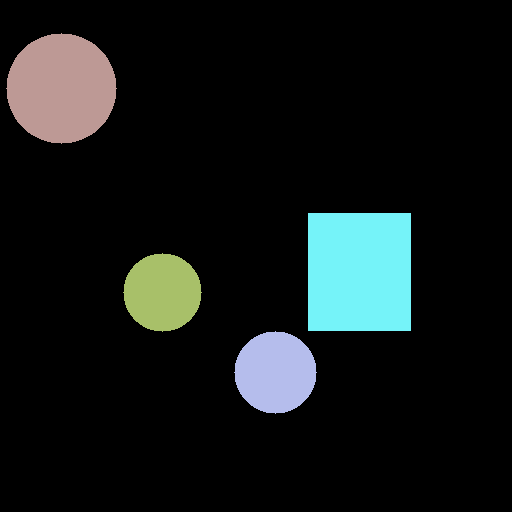circle: (6, 33, 116, 143), (234, 331, 316, 413), (123, 253, 201, 331)
rectangle: (308, 213, 410, 330)
